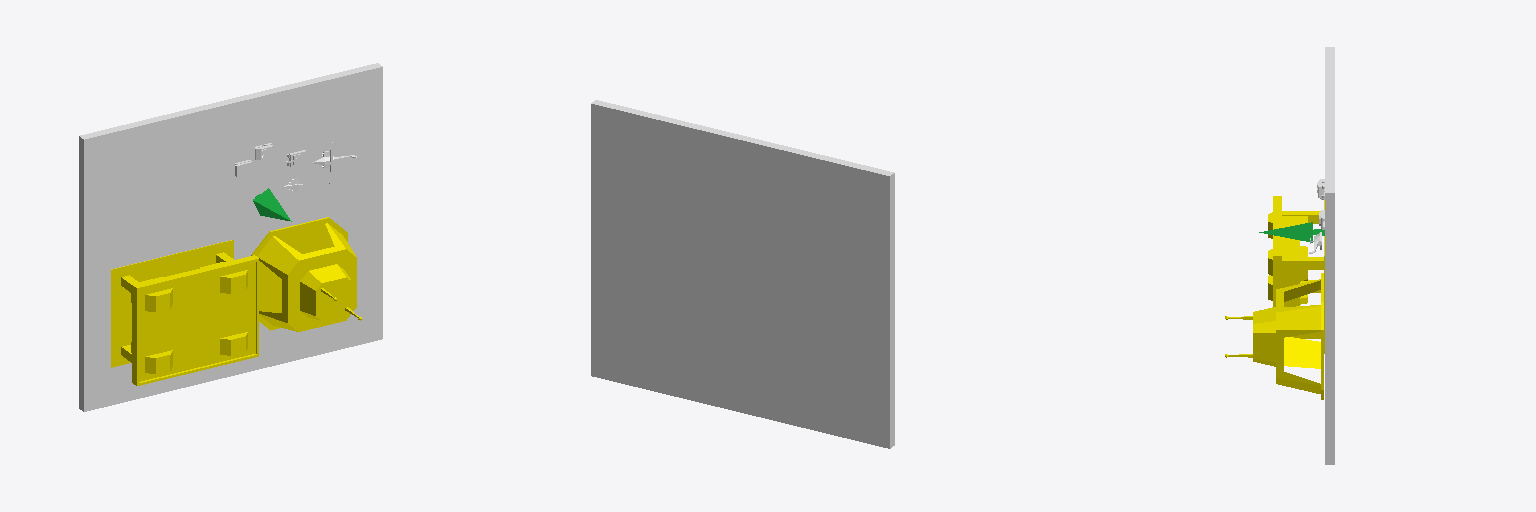
Rendered from raic4_colored.obj.
3 views of the same model, side by side, from view 1: azimuth 30°, elevation 25°; view 2: azimuth 150°, elevation 25°; view 3: azimuth 270°, elevation 25° (orthographic).
Visible parts, largest first — view 1: Object.19, Object.10, Object.4, Object.12; view 2: Object.19; view 3: Object.4, Object.19, Object.10, Object.12.
Part boxes in pixels (x1,y1,x2,y2): Object.19: (79, 63, 382, 411); Object.10: (111, 240, 258, 385); Object.4: (251, 217, 361, 331); Object.12: (253, 188, 291, 221); Object.19: (591, 100, 894, 448); Object.4: (1225, 273, 1323, 399); Object.19: (1325, 47, 1334, 464); Object.10: (1268, 196, 1324, 353); Object.12: (1259, 222, 1324, 242).
Size of the model in its own units: 1345 by 1172 by 431.